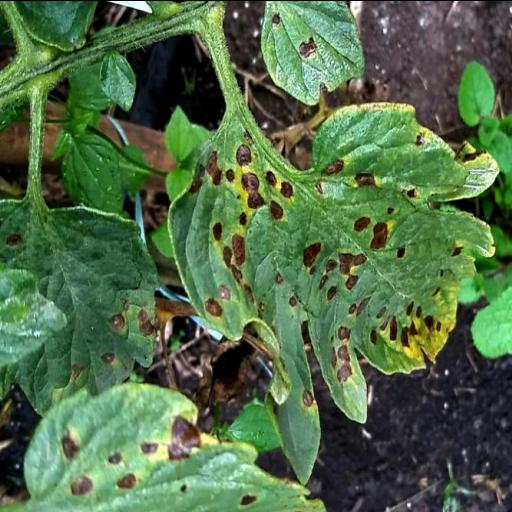disease_tomato: (168, 105, 500, 421), (22, 380, 325, 512), (4, 194, 160, 414), (259, 0, 365, 102)
